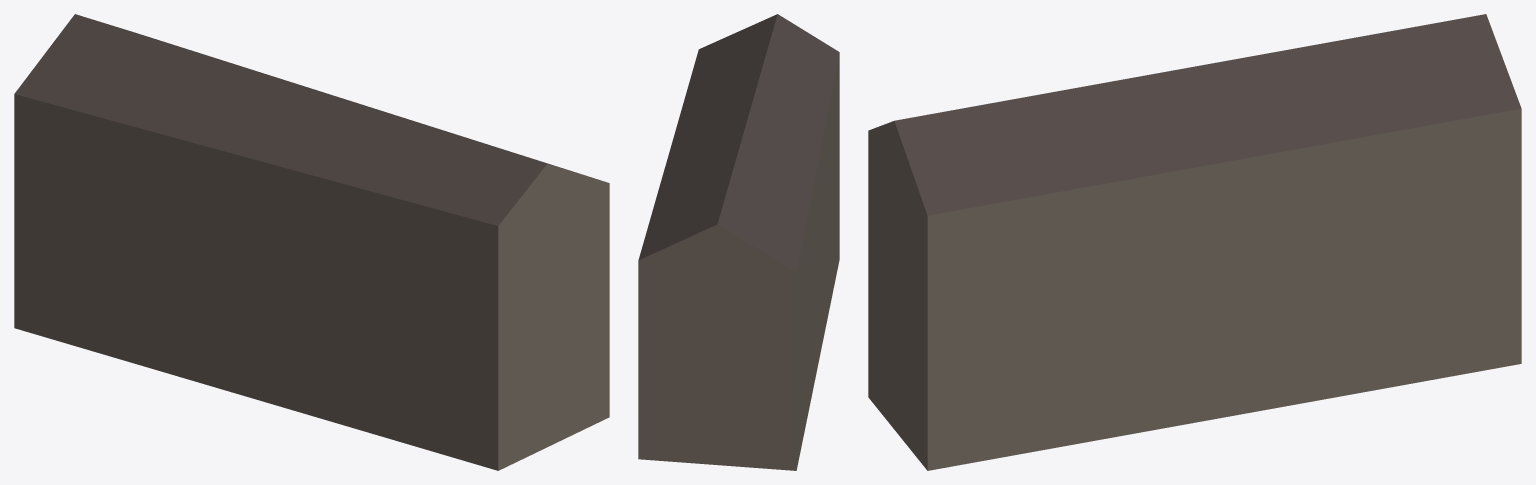
The picture shows the model from 3 angles, left to right: view 1: azimuth 30°, elevation 25°; view 2: azimuth 150°, elevation 25°; view 3: azimuth 270°, elevation 25°; orthographic projection. The views are drawn at different scales.
Visible parts, largest first — view 1: HP-w505659421; view 2: HP-w505659421; view 3: HP-w505659421.
Part boxes in pixels (x1=…): HP-w505659421: x1=14, y1=14, x2=609, y2=470; HP-w505659421: x1=638, y1=14, x2=839, y2=470; HP-w505659421: x1=868, y1=14, x2=1521, y2=470.
Bounding box in the file's own units: 9.53 × 7.27 × 13.93.
